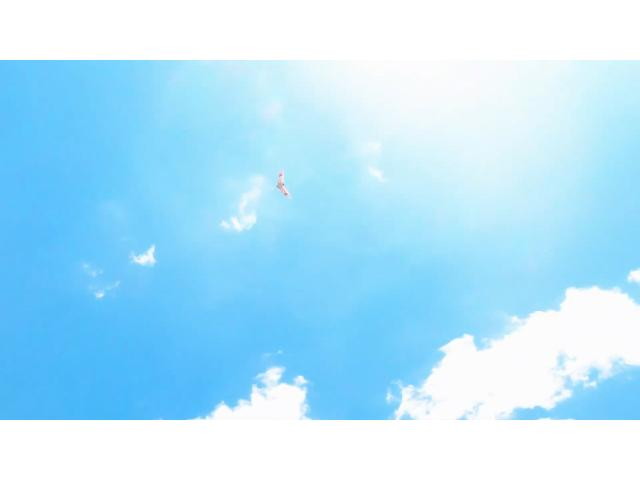Anti-Drone: (266, 160, 298, 198)
